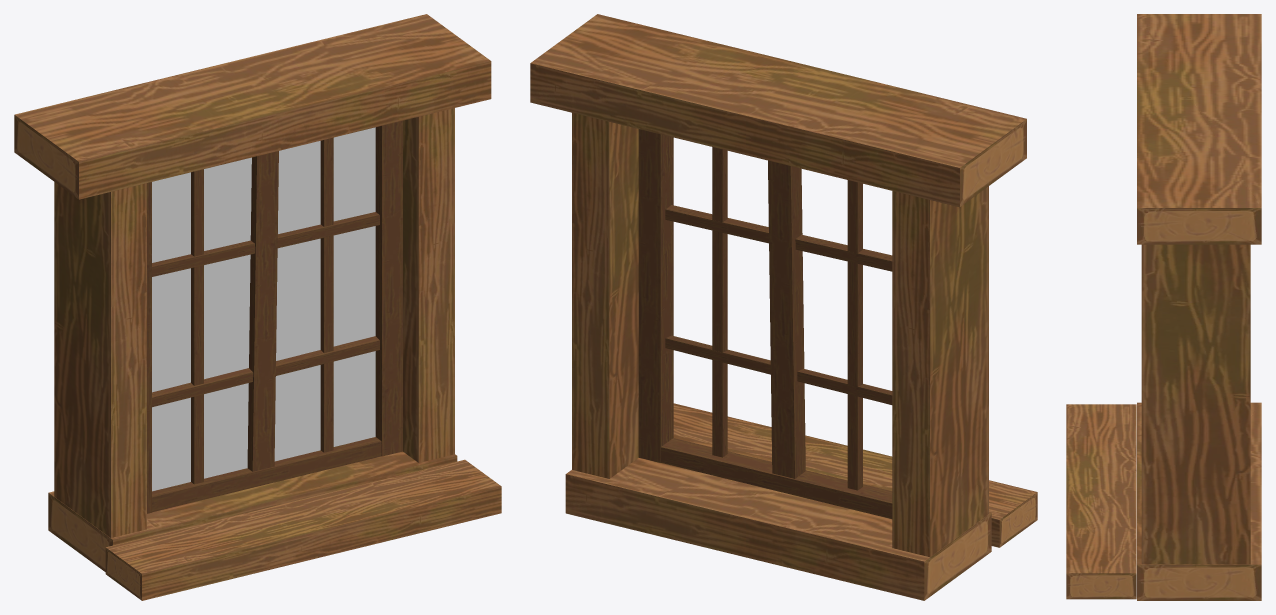
The model's file is window-wide-flat1.glb.
3 renders of one model, left to right at view 1: azimuth 30°, elevation 25°; view 2: azimuth 150°, elevation 25°; view 3: azimuth 270°, elevation 25°, orthographic. The views are drawn at different scales.
Parts seen in each view (by area): view 1: Window_Wide_Flat1; view 2: Window_Wide_Flat1; view 3: Window_Wide_Flat1.
Part boxes in pixels (<box>): Window_Wide_Flat1: <box>14,14,501,600</box>; Window_Wide_Flat1: <box>530,14,1037,600</box>; Window_Wide_Flat1: <box>1066,14,1261,600</box>.
Size of the model in its own units: 1.61 by 1.58 by 0.6834.
2 materials, 1 textured.
